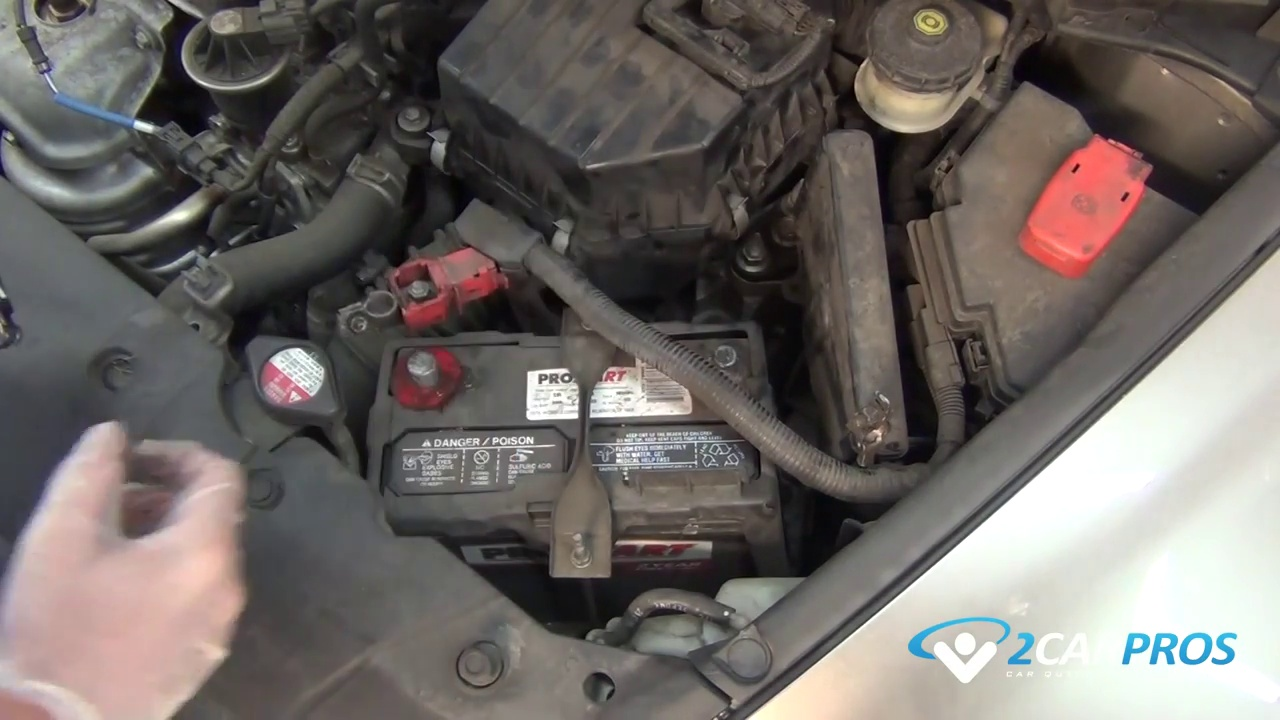battery: (375, 319, 768, 529)
neg_disconnected: (673, 305, 771, 397)
pos_disconnected: (358, 243, 493, 420)
